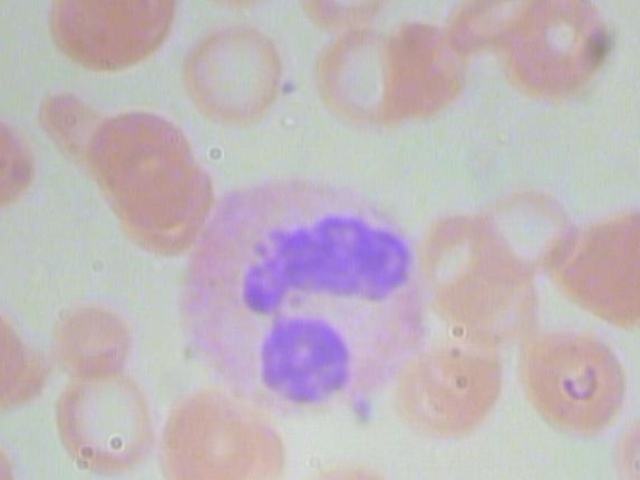RBC: (508, 316, 633, 440), (179, 15, 294, 129), (54, 361, 169, 475), (156, 389, 295, 480), (312, 18, 423, 130), (490, 0, 618, 94), (43, 0, 178, 75), (50, 294, 138, 372), (611, 406, 640, 480)
WBC: (161, 165, 429, 419)
